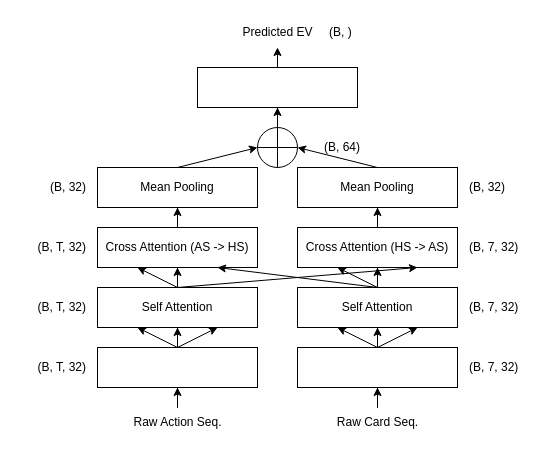
Some shapes in this 554 by 454 pixel diagram are drawn without their labels. Here are the shapes that lost their labels. From the top down, the centre of each, then its label:
the point at 277,87: FC Layers
the point at 177,367: Action Sequence Embedding
the point at 377,367: Hand Eval. Seq. Embedding
